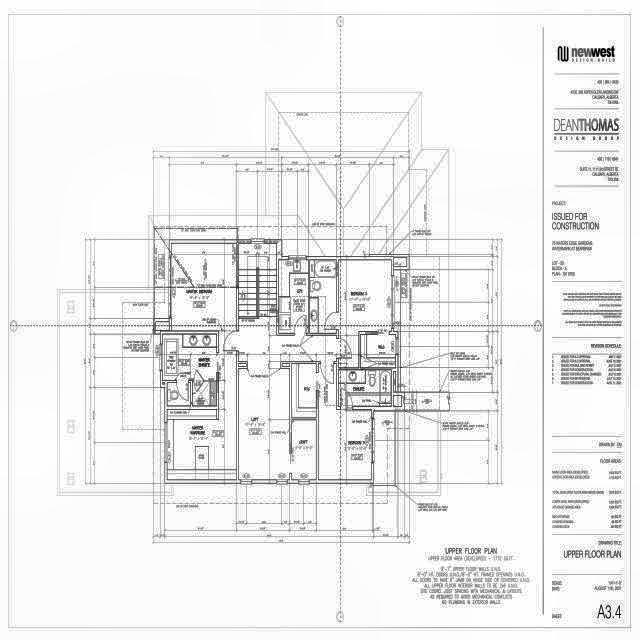room: (167, 243, 236, 480), (318, 364, 371, 480), (338, 260, 391, 368), (163, 334, 217, 406), (279, 260, 308, 333), (338, 370, 391, 406), (310, 260, 336, 333), (292, 420, 316, 480), (292, 364, 316, 418), (360, 335, 396, 368), (167, 383, 191, 406)
